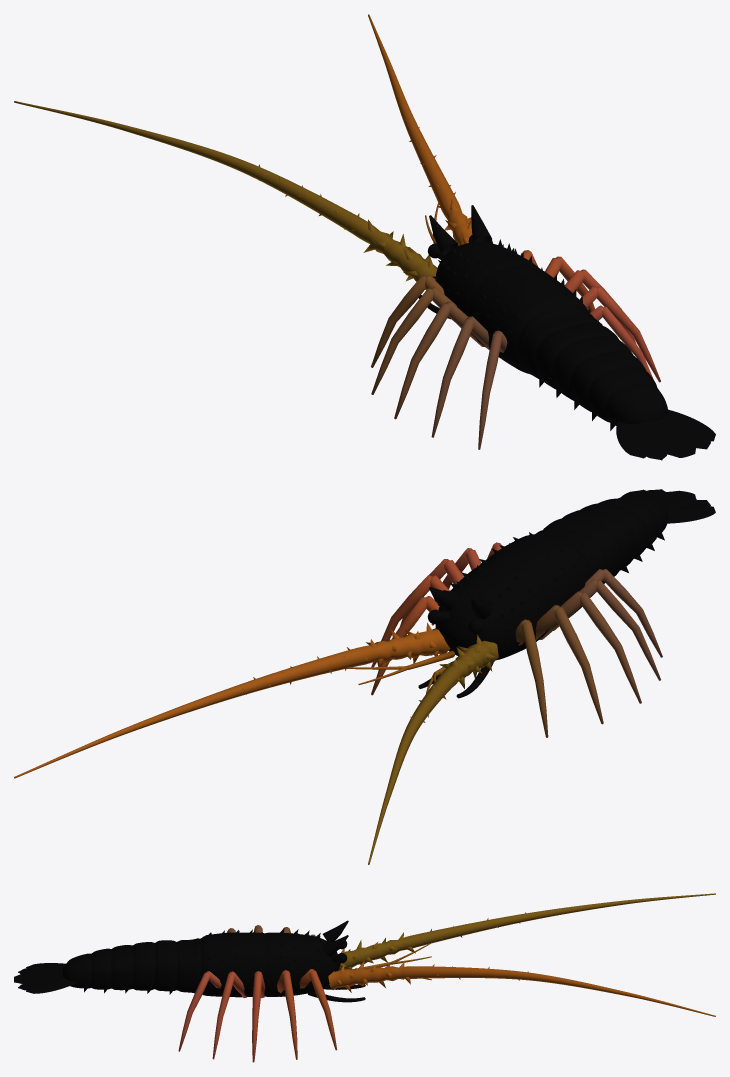
The model's file is spiny_lobster.glb.
The picture shows the model from 3 angles, top to bottom: view 1: azimuth 30°, elevation 25°; view 2: azimuth 150°, elevation 25°; view 3: azimuth 270°, elevation 25°; orthographic projection. The views are drawn at different scales.
Parts seen in each view (by area): view 1: spiny_lobster; view 2: spiny_lobster; view 3: spiny_lobster.
Part boxes in pixels (x1,y1,x2,y2): spiny_lobster: (14,14,715,460); spiny_lobster: (14,489,715,864); spiny_lobster: (14,893,715,1062).
Bounding box in the file's own units: 0.5221 × 0.1828 × 1.26.
